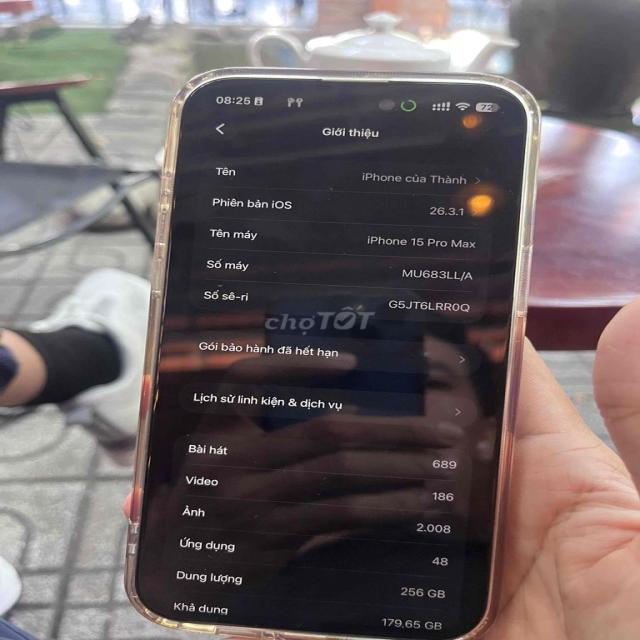gen_15: (118, 48, 524, 640)
